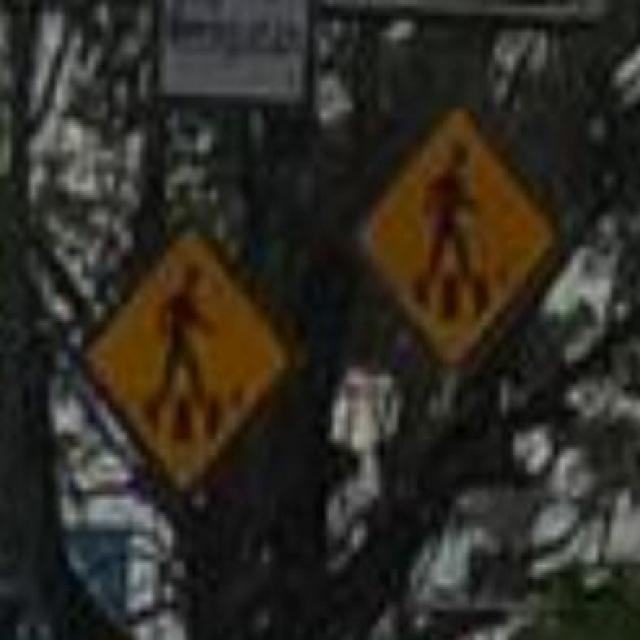traffic sign: (86, 228, 282, 482), (371, 116, 547, 346)
